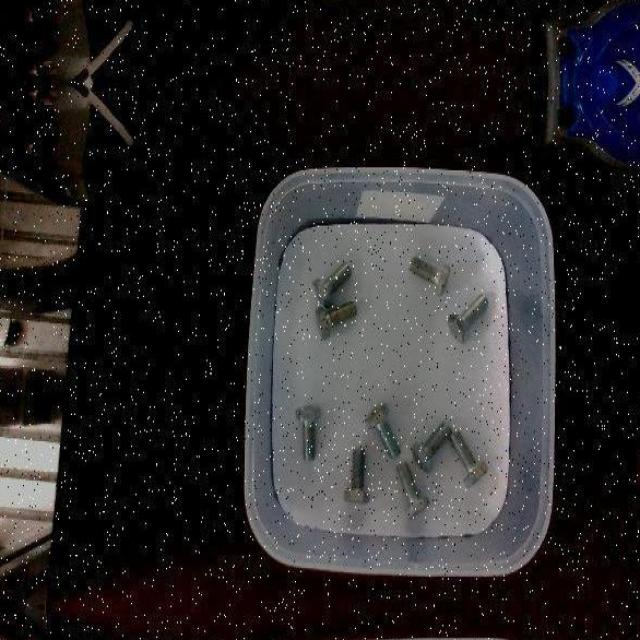screw: (449, 427, 489, 487), (365, 401, 401, 459), (447, 292, 488, 342), (412, 422, 452, 472), (311, 260, 352, 308), (396, 461, 430, 518), (315, 300, 356, 342), (410, 255, 450, 298), (343, 447, 370, 502), (295, 404, 321, 461)
